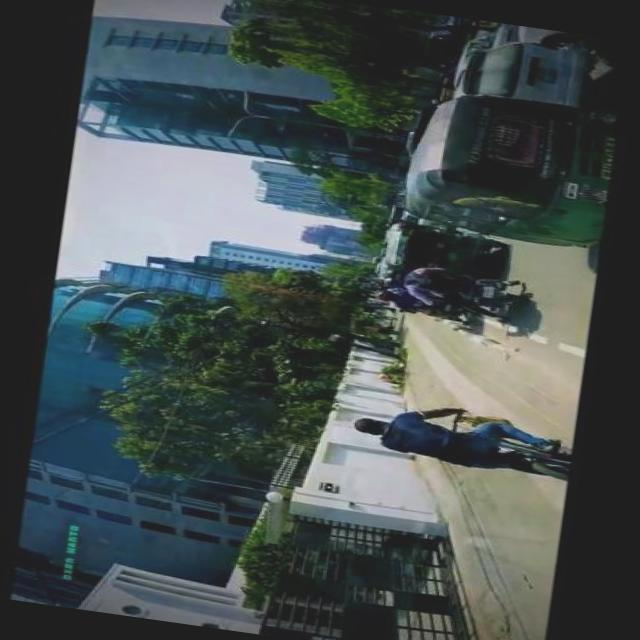car: (448, 30, 588, 113)
motorcycle: (395, 85, 615, 252), (376, 223, 502, 285), (432, 276, 522, 320)
